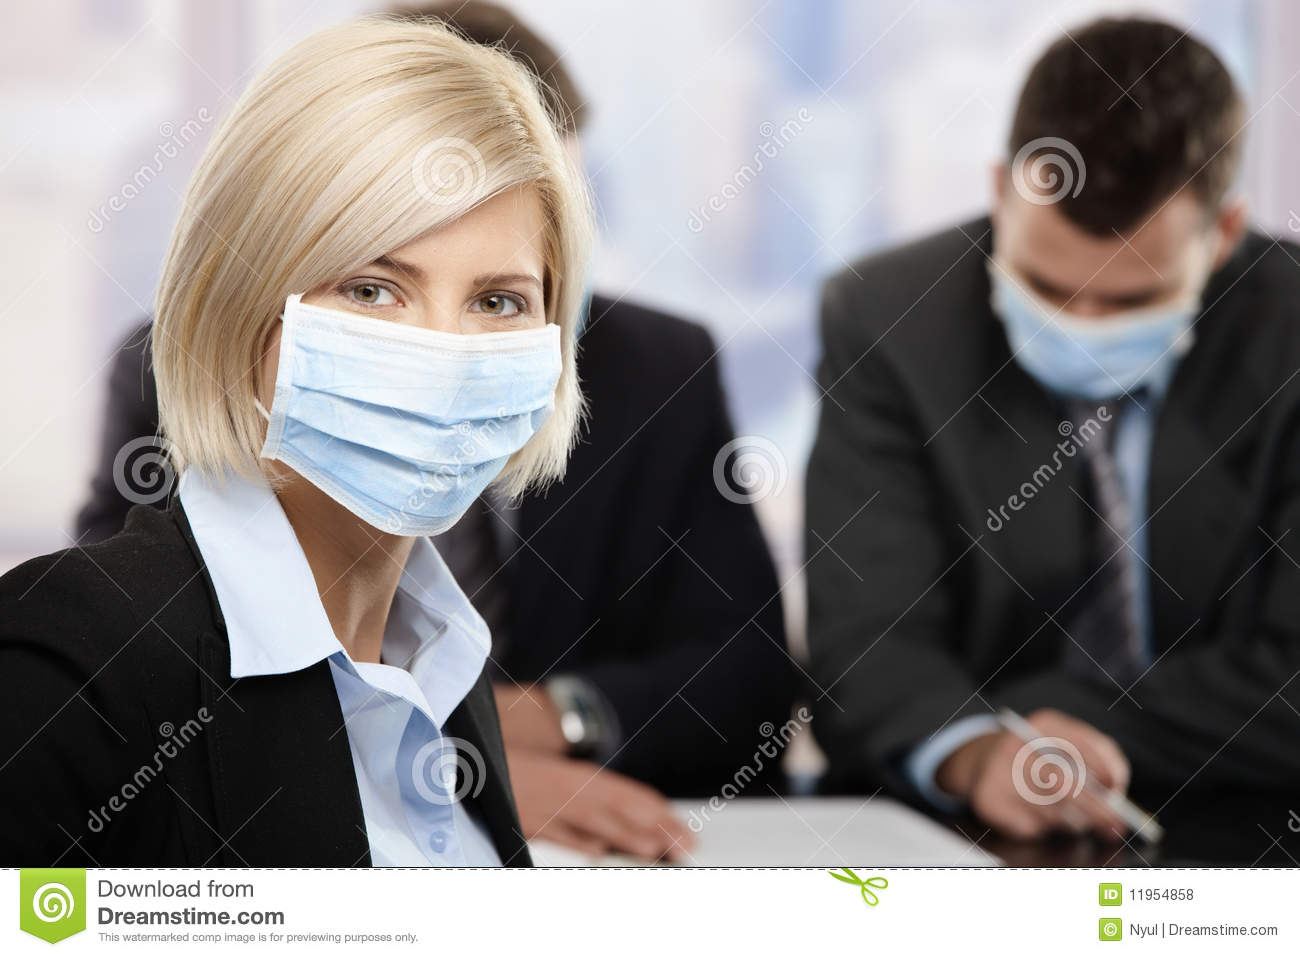mask: (261, 299, 562, 538)
